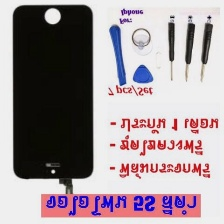phone: (9, 2, 95, 181)
